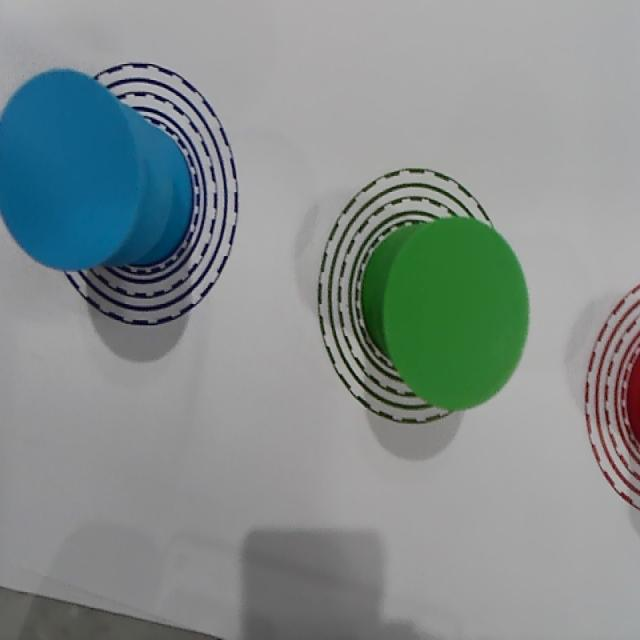g: (384, 214, 530, 410)
